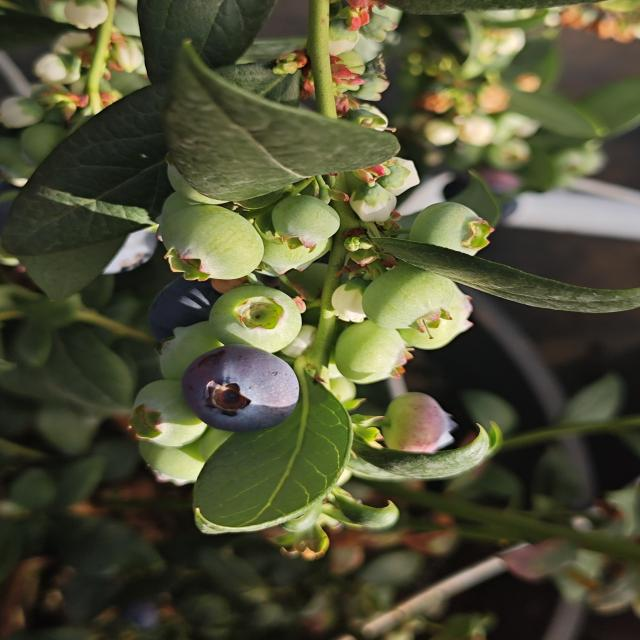ripe: (170, 343, 312, 436), (132, 264, 248, 342)
